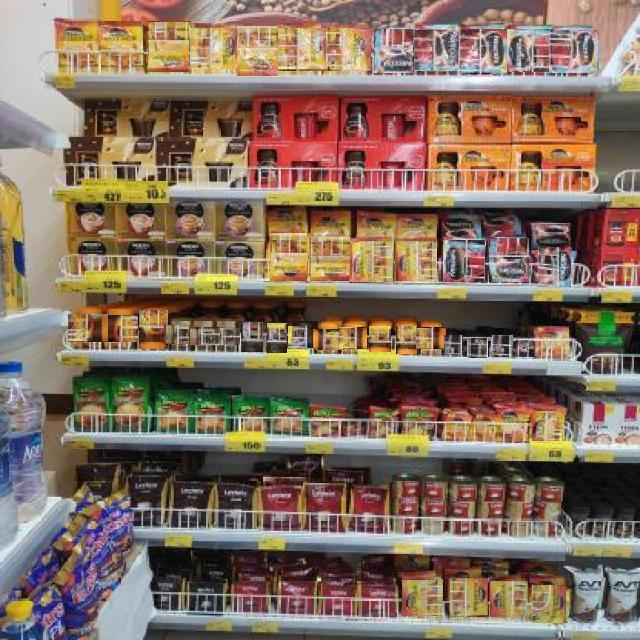Coffee: (56, 19, 98, 73), (100, 22, 144, 73), (504, 28, 554, 72), (459, 29, 507, 74), (321, 28, 371, 71), (276, 28, 326, 71), (236, 25, 278, 76), (549, 30, 599, 72), (148, 21, 189, 72), (189, 28, 240, 69), (413, 30, 462, 71), (309, 236, 350, 281), (488, 237, 529, 282), (270, 232, 307, 281), (351, 240, 394, 282), (443, 240, 485, 282), (373, 29, 413, 73), (396, 241, 437, 281), (402, 579, 443, 616), (450, 579, 488, 617), (537, 247, 571, 287), (490, 580, 526, 617), (532, 585, 566, 623), (138, 309, 168, 349), (530, 222, 571, 250), (67, 314, 108, 342), (98, 314, 138, 342), (532, 410, 562, 441), (499, 410, 526, 442), (240, 321, 263, 352), (287, 326, 318, 348), (266, 322, 287, 353), (415, 328, 446, 349), (314, 328, 343, 350), (368, 325, 391, 352), (164, 324, 195, 344), (338, 328, 367, 349), (396, 325, 417, 354), (189, 326, 220, 345), (210, 327, 240, 345), (467, 337, 488, 358), (492, 336, 513, 357), (443, 335, 463, 355), (515, 339, 534, 358)
